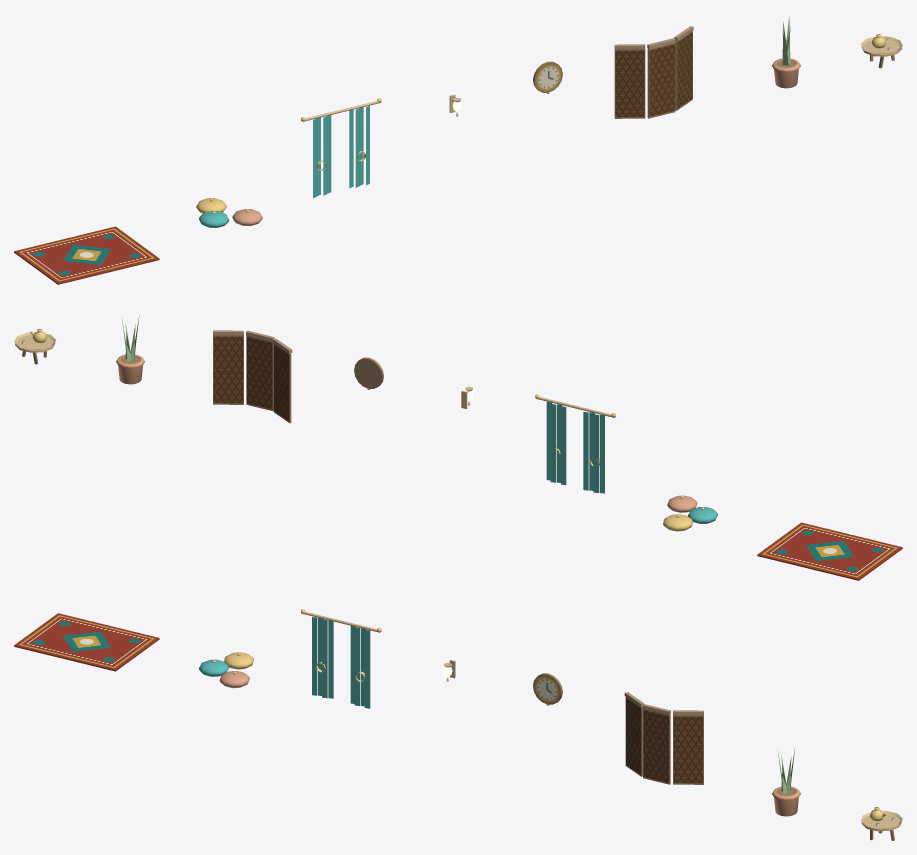
File: kit-19-props-interior.glb
3 renders of one model, top to bottom at view 1: azimuth 30°, elevation 25°; view 2: azimuth 150°, elevation 25°; view 3: azimuth 330°, elevation 25°, orthographic.
Visible parts, largest first — view 1: PropIn_PartisiMashrabiya, PropIn_KarpetRuang, PropIn_Gorden, PropIn_BantalLantai, PropIn_TanamanPot, PropIn_MejaTeh, PropIn_JamDinding; view 2: PropIn_PartisiMashrabiya, PropIn_KarpetRuang, PropIn_Gorden, PropIn_BantalLantai, PropIn_TanamanPot, PropIn_MejaTeh, PropIn_JamDinding; view 3: PropIn_PartisiMashrabiya, PropIn_KarpetRuang, PropIn_Gorden, PropIn_BantalLantai, PropIn_TanamanPot, PropIn_MejaTeh, PropIn_JamDinding.
Part boxes in pixels (x1=…): PropIn_PartisiMashrabiya: x1=614, y1=26, x2=693, y2=118; PropIn_KarpetRuang: x1=14, y1=226, x2=159, y2=284; PropIn_Gorden: x1=301, y1=98, x2=381, y2=198; PropIn_BantalLantai: x1=196, y1=198, x2=262, y2=227; PropIn_TanamanPot: x1=772, y1=16, x2=800, y2=88; PropIn_MejaTeh: x1=861, y1=34, x2=902, y2=68; PropIn_JamDinding: x1=533, y1=61, x2=562, y2=93; PropIn_PartisiMashrabiya: x1=213, y1=330, x2=292, y2=423; PropIn_KarpetRuang: x1=757, y1=522, x2=902, y2=580; PropIn_Gorden: x1=535, y1=394, x2=615, y2=493; PropIn_BantalLantai: x1=663, y1=495, x2=717, y2=531; PropIn_TanamanPot: x1=116, y1=316, x2=144, y2=384; PropIn_MejaTeh: x1=14, y1=329, x2=55, y2=364; PropIn_JamDinding: x1=354, y1=357, x2=383, y2=389; PropIn_PartisiMashrabiya: x1=624, y1=692, x2=703, y2=784; PropIn_KarpetRuang: x1=14, y1=613, x2=159, y2=671; PropIn_Gorden: x1=301, y1=609, x2=381, y2=708; PropIn_BantalLantai: x1=199, y1=652, x2=253, y2=688; PropIn_TanamanPot: x1=772, y1=747, x2=800, y2=816; PropIn_MejaTeh: x1=860, y1=807, x2=902, y2=840; PropIn_JamDinding: x1=533, y1=673, x2=562, y2=705.
Size of the model in its own units: 27.18 by 2.62 by 2.4.
Materials: 14 (3 with a texture image).
